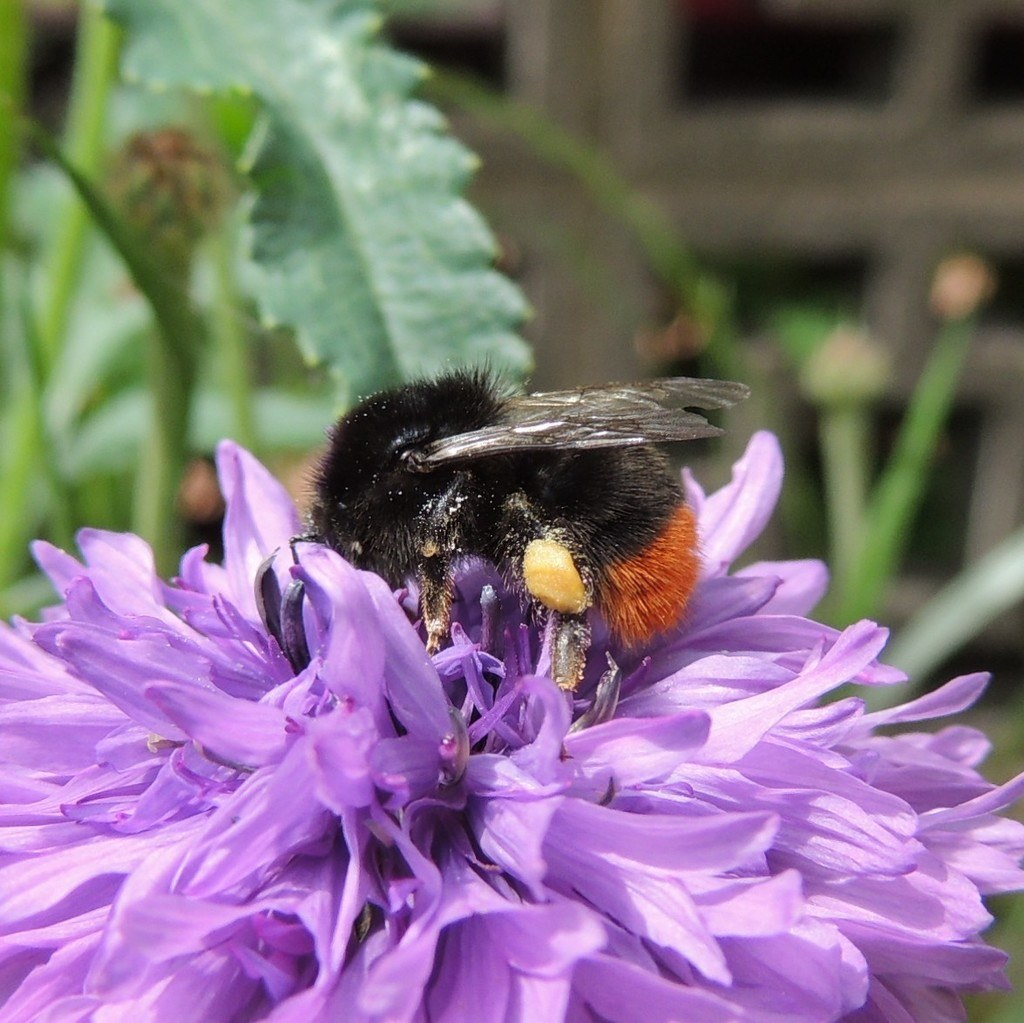bee: (279, 363, 752, 708)
